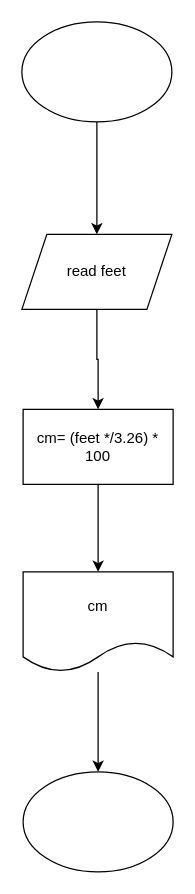
The diagram is 195 pixels wide and 894 high, and some of its shapes have lost their labels. The shapes that lost their labels are listed below. From the top down, each one's centre as x and y in pixels, then its label:
the point at 96,71: START
the point at 97,821: ENDnn
